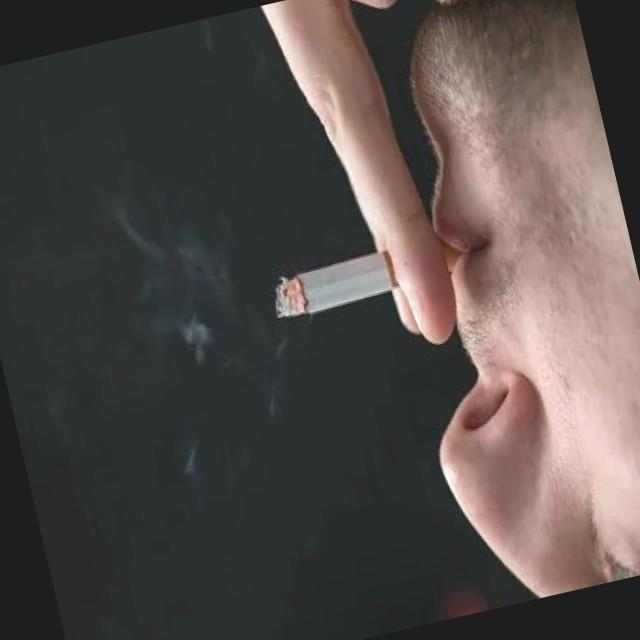smoke: (261, 217, 463, 330)
